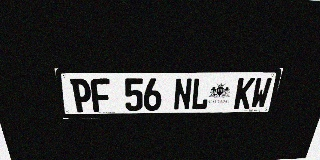5: (124, 78, 143, 111)
6: (144, 78, 162, 111)
F: (90, 78, 111, 112)
K: (233, 78, 255, 109)
L: (190, 78, 211, 110)
N: (173, 78, 193, 110)
P: (70, 78, 93, 112)
W: (250, 78, 272, 109)
